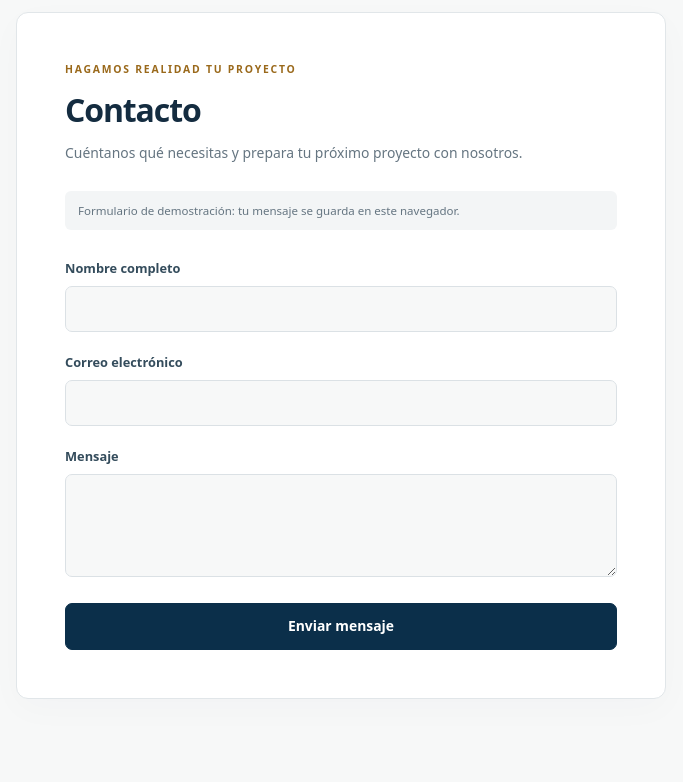
Test: contacto válido persiste y limpia los errores anteriores
This screenshot has width=683, height=782.
Click the button "Enviar mensaje" at (341, 627), box [65,603,617,650]
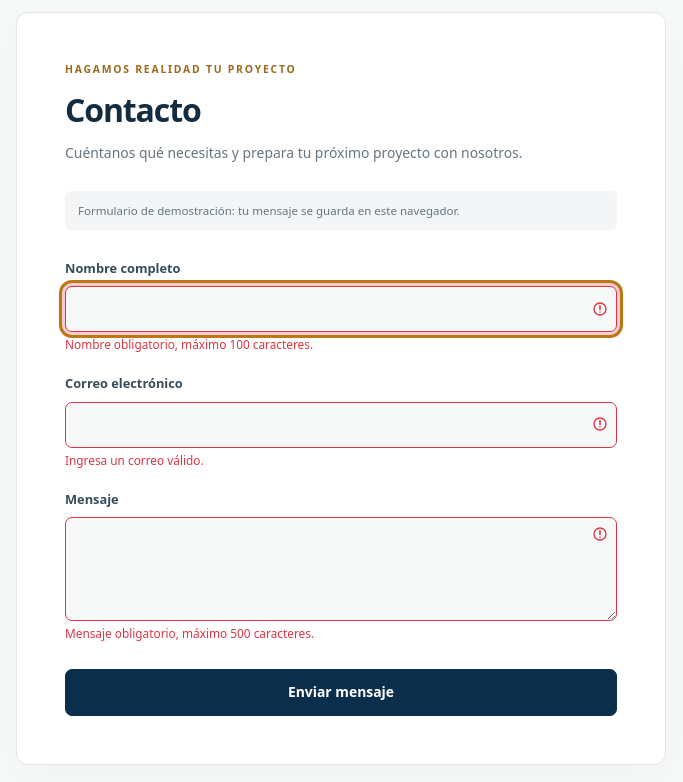
Type "Ana" into the field labelled "Nombre completo" at (341, 309), box [65,286,617,332]
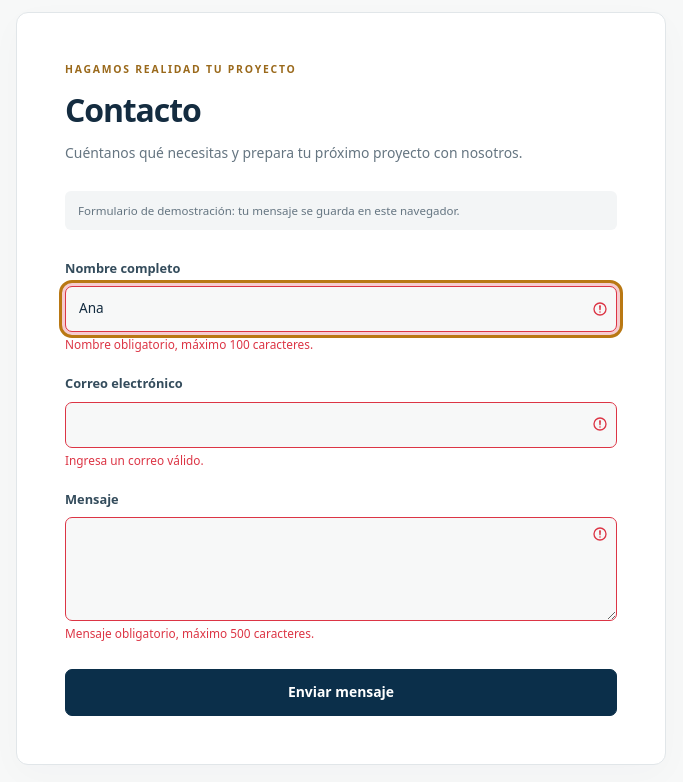
Type "ana@test.cl" into the field labelled "Correo electrónico" at (341, 424), box [65,402,617,448]
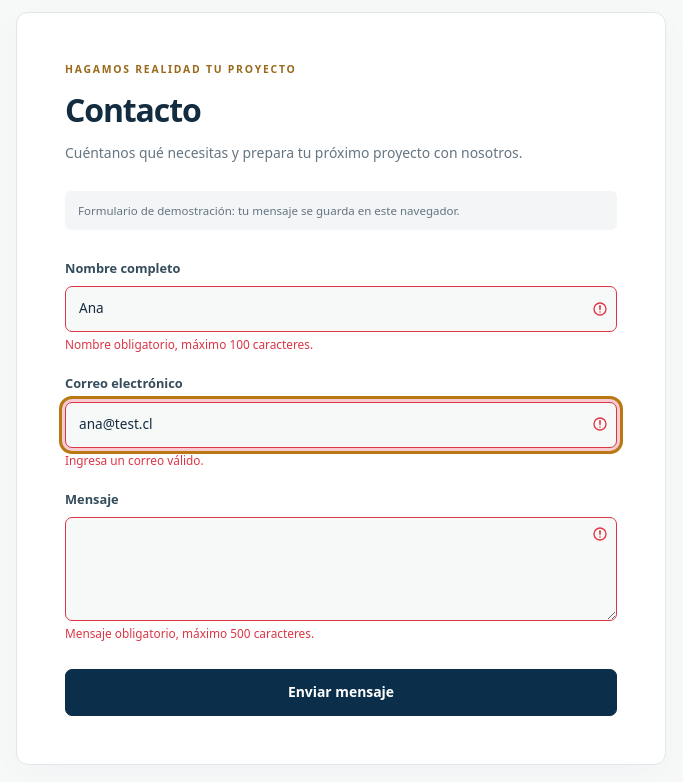
Type "Necesito un taladro" into the text box labelled "Mensaje" at (341, 569), box [65,517,617,621]
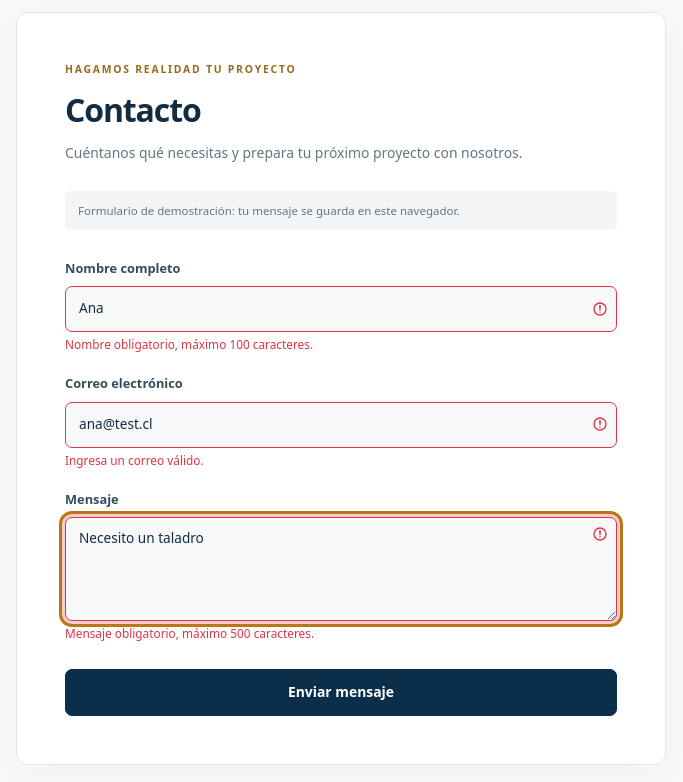
Click the button "Enviar mensaje" at (341, 692), box [65,669,617,716]
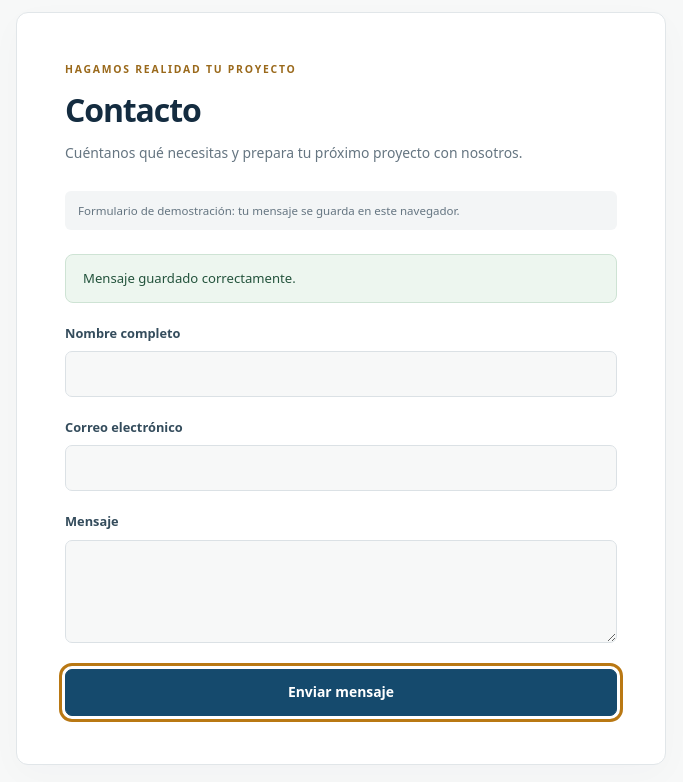
Expected: the message "Nombre obligatorio, máximo 100 caracteres." is gone
Expected: the message shows "Mensaje guardado", [83,268,296,286]
Expected: the field labelled "Nombre completo" is empty, [65,351,617,397]
